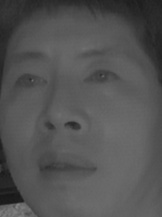eye: (10, 70, 49, 94), (81, 66, 120, 88)
mouth: (33, 147, 100, 189)
